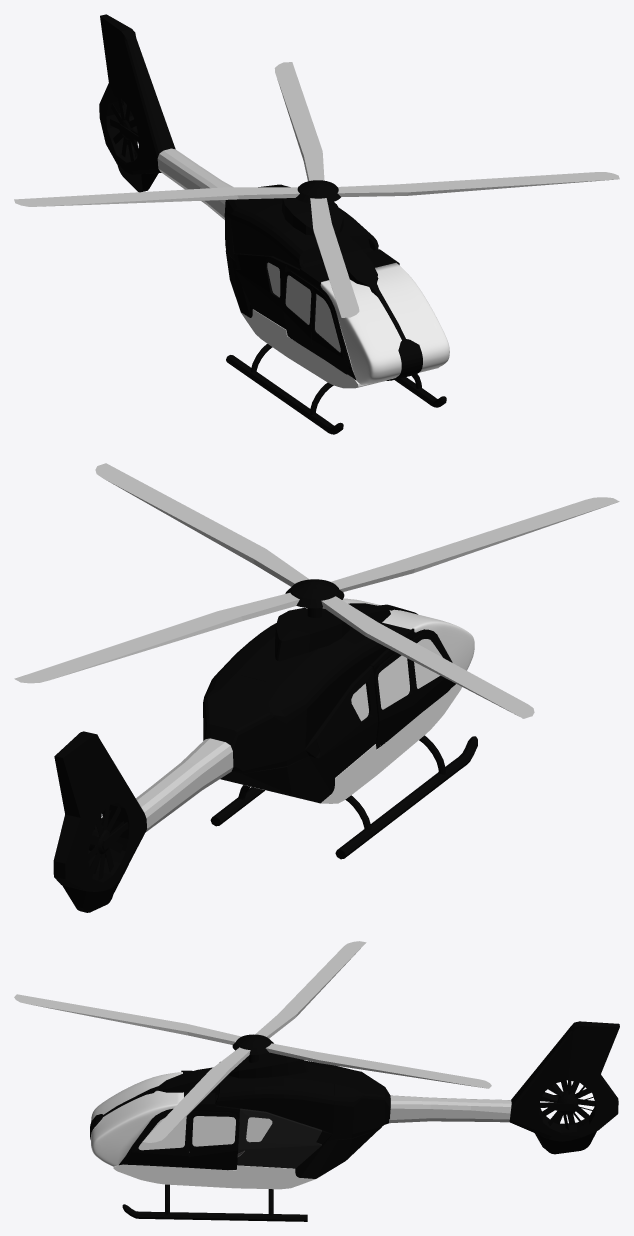
Rendered from helicopter (final).fbx.
The picture shows the model from 3 angles, top to bottom: view 1: azimuth 30°, elevation 25°; view 2: azimuth 150°, elevation 25°; view 3: azimuth 270°, elevation 25°; orthographic projection. The views are drawn at different scales.
Visible parts, largest first — view 1: Roter Blades, Tail Fin Top, Air Funnel, front window left, Front window Left, Belly, storage panel, Tail, foot right, Rotor Cover, Air Spliter, Right Front Door (+9 smaller); view 2: Roter Blades, Tail Fin Top, Rear, Air Funnel, Tail, storage panel, Belly, Rear Door, Rotor Cover, foot right, front window left, Right Back Door (+6 smaller); view 3: Roter Blades, Tail Fin Top, Air Funnel, Belly, Storage Panel, Front window Left, Rear, Tail, Rear Door, Left Back Door, foot left side, Rotor Cover (+11 smaller).
Part boxes in pixels (bbox=[...]): Roter Blades: bbox=[14, 62, 619, 317]; Tail Fin Top: bbox=[99, 14, 175, 174]; Air Funnel: bbox=[231, 198, 378, 268]; front window left: bbox=[321, 279, 401, 384]; Front window Left: bbox=[375, 262, 449, 372]; Belly: bbox=[241, 309, 438, 388]; storage panel: bbox=[235, 253, 287, 329]; Tail: bbox=[157, 148, 233, 219]; foot right: bbox=[226, 355, 343, 434]; Rotor Cover: bbox=[281, 198, 343, 235]; Air Spliter: bbox=[337, 236, 378, 286]; Right Front Door: bbox=[311, 286, 348, 374]; Roter Blades: bbox=[14, 463, 619, 718]; Tail Fin Top: bbox=[53, 731, 147, 891]; Rear: bbox=[203, 674, 306, 771]; Air Funnel: bbox=[214, 623, 386, 747]; Tail: bbox=[136, 738, 233, 831]; storage panel: bbox=[312, 666, 378, 777]; Belly: bbox=[236, 684, 461, 803]; Rear Door: bbox=[220, 756, 334, 803]; Rotor Cover: bbox=[275, 608, 349, 661]; foot right: bbox=[335, 736, 477, 859]; front window left: bbox=[382, 609, 474, 670]; Right Back Door: bbox=[374, 652, 413, 745]; Roter Blades: bbox=[14, 941, 491, 1142]; Tail Fin Top: bbox=[509, 1021, 619, 1141]; Air Funnel: bbox=[215, 1060, 333, 1133]; Belly: bbox=[113, 1164, 315, 1189]; Storage Panel: bbox=[237, 1108, 321, 1168]; Front window Left: bbox=[91, 1090, 183, 1166]; Rear: bbox=[333, 1065, 390, 1134]; Tail: bbox=[390, 1095, 511, 1123]; Rear Door: bbox=[295, 1129, 379, 1178]; Left Back Door: bbox=[188, 1111, 239, 1170]; foot left side: bbox=[122, 1204, 307, 1221]; Rotor Cover: bbox=[228, 1052, 308, 1078].
Bounding box in the file's own units: 2326 × 948 × 2952.
